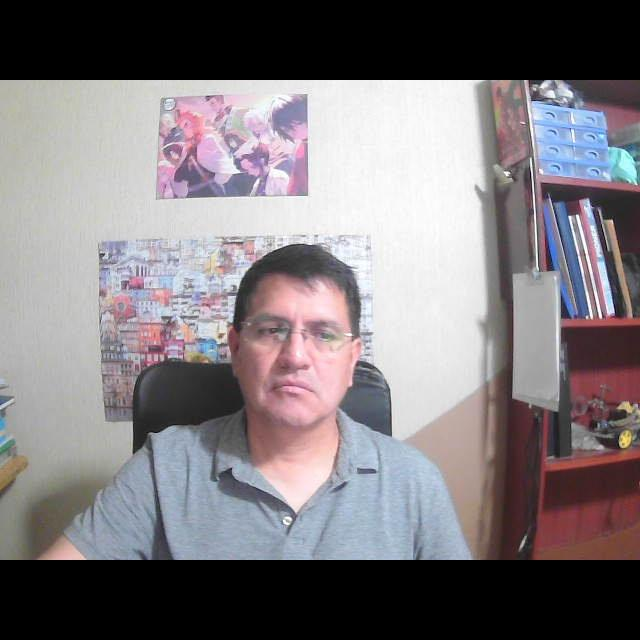cesar: (208, 228, 380, 452)
